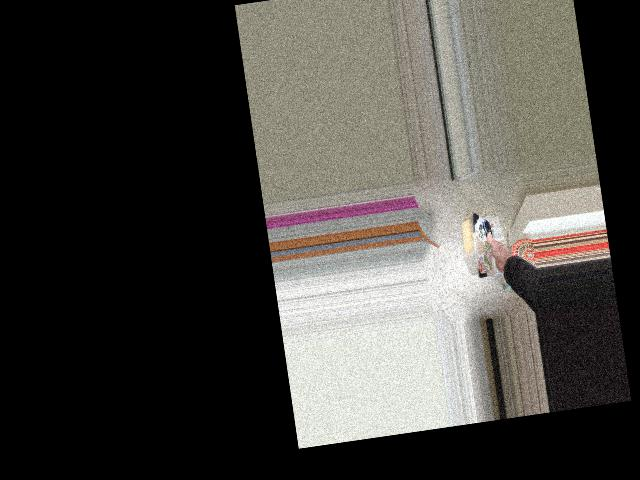cheese: (441, 206, 515, 290)
